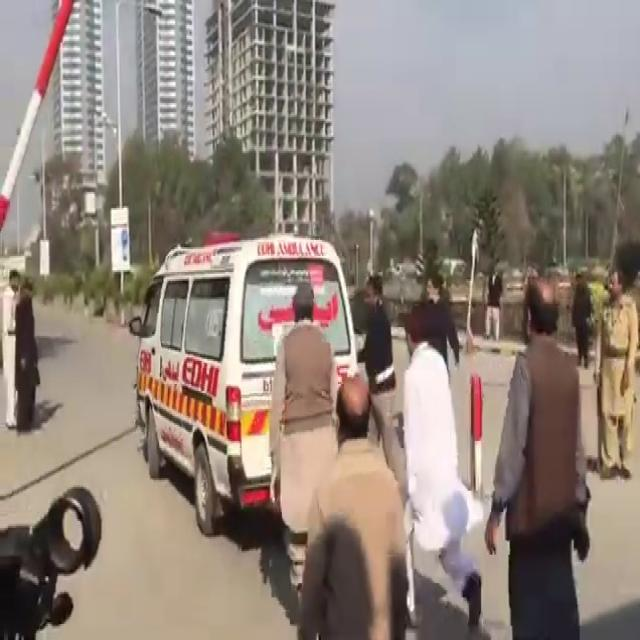ambulance: (131, 184, 399, 526)
